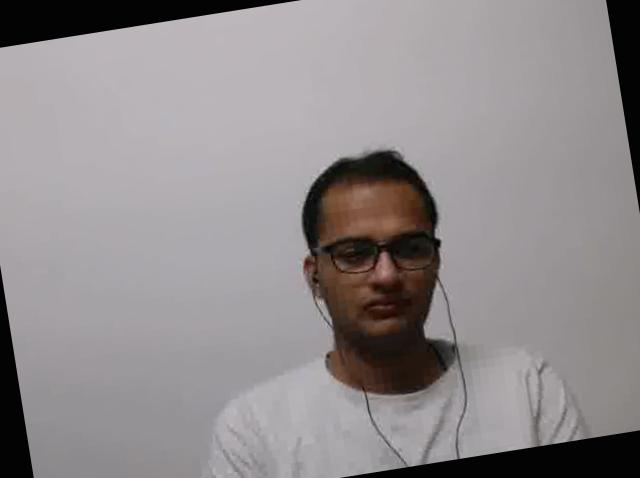bingung: (308, 182, 446, 346)
